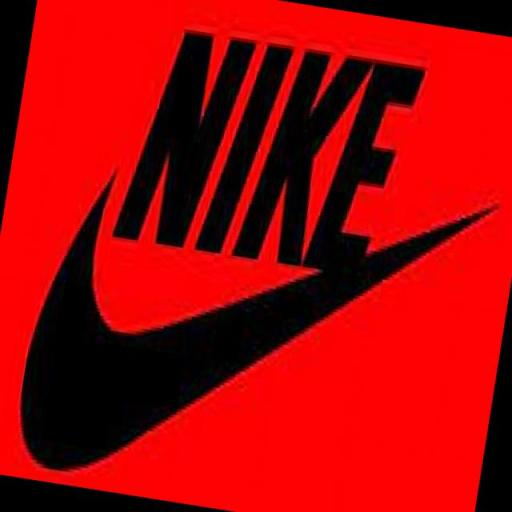Nike: (6, 130, 506, 512), (109, 16, 432, 292)
